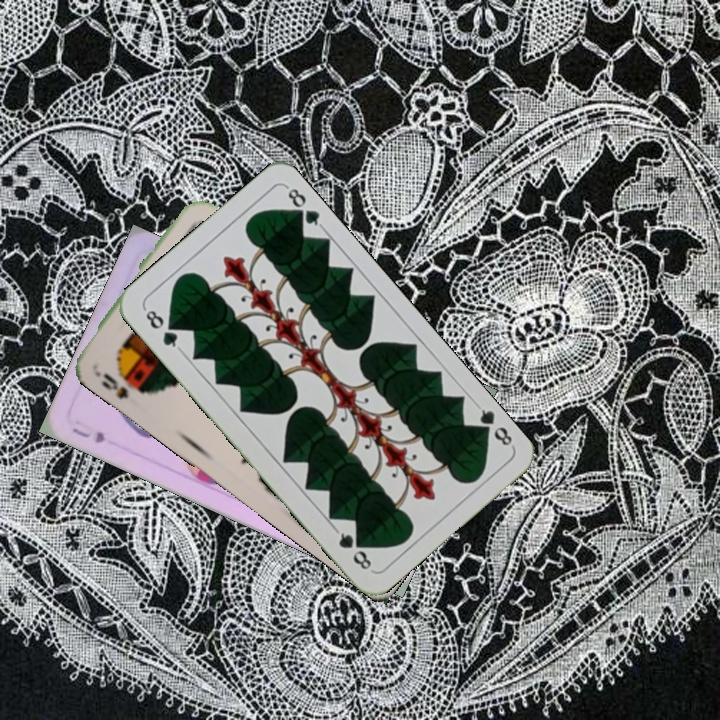G8: (471, 400, 516, 449), (140, 304, 184, 353)
SO: (90, 366, 132, 402)
SU: (68, 423, 109, 446)
